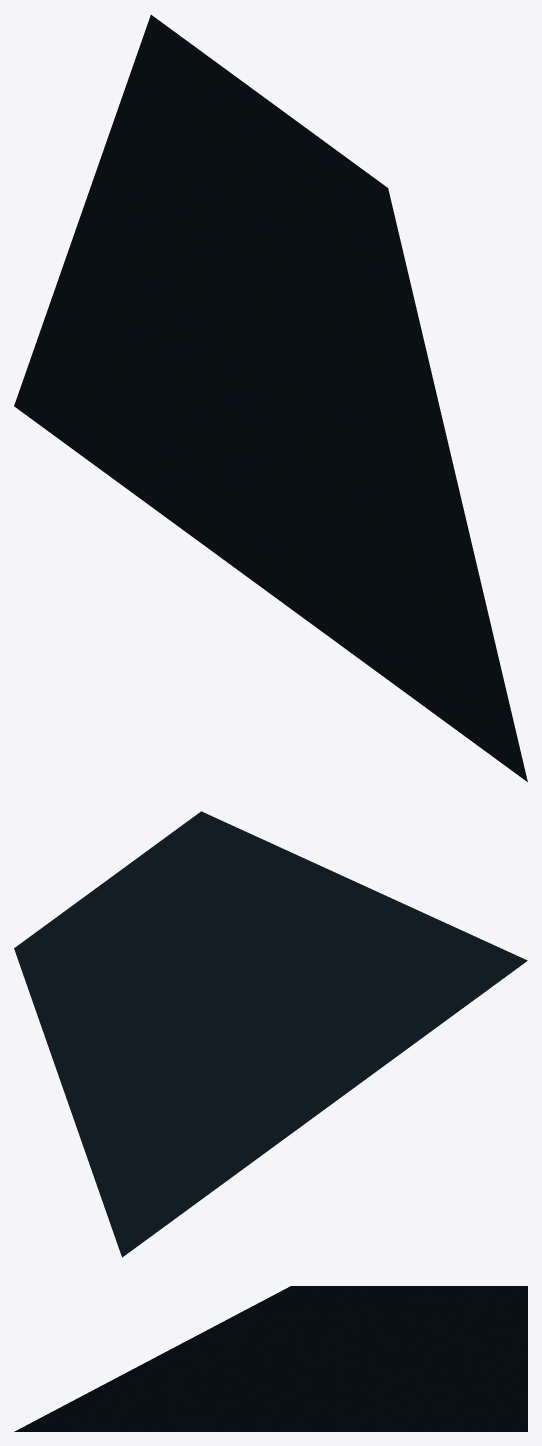
3 renders of one model, top to bottom at view 1: azimuth 30°, elevation 25°; view 2: azimuth 150°, elevation 25°; view 3: azimuth 270°, elevation 25°, orthographic. The views are drawn at different scales.
Size of the model in its own units: 0.16 by 0.4 by 1.04.
Materials: 1 (1 with a texture image).
